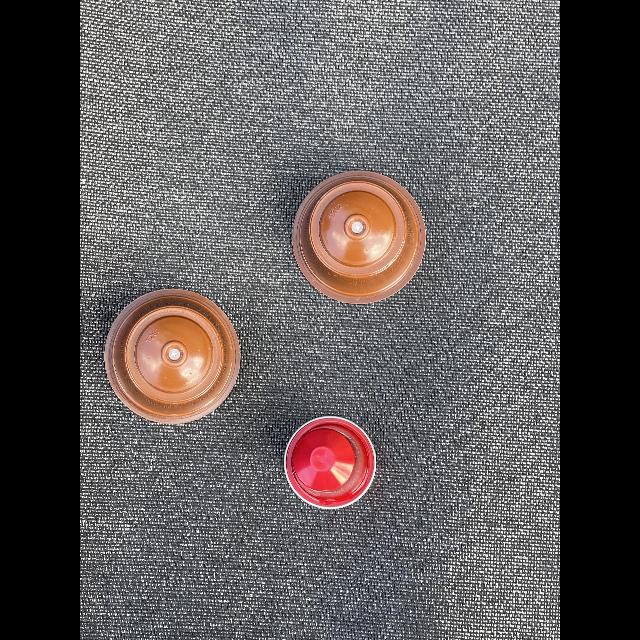intact_capsule: (97, 277, 250, 435), (284, 162, 438, 316), (276, 406, 384, 522)
